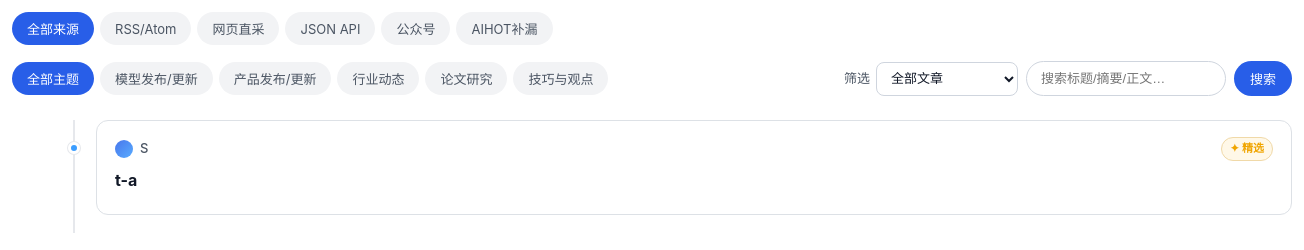
it: Feed › switching the article filter supports 精选 and score thresholds
Expected: the link "t-a" is shown, [115,170,137,190]
Select "精选" in the dropdown named "资讯筛选": (947, 78) [876,62,1018,96]
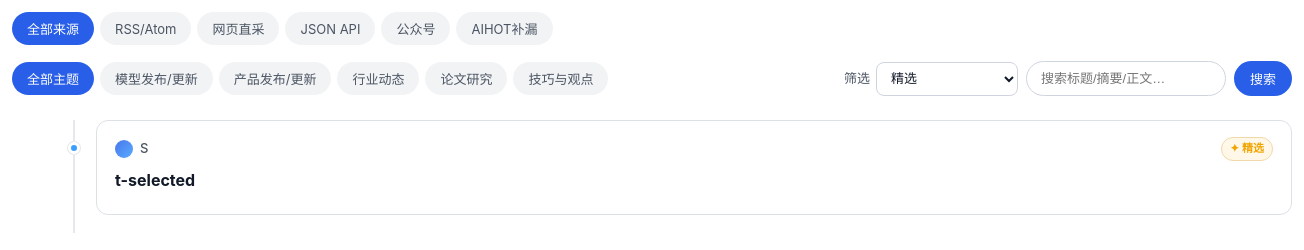
Expected: the link "t-selected" is shown, [115,170,195,190]
Expected: the link "t-a" is gone
Select "评分 4 分以上" in the dropdown named "资讯筛选": (947, 78) [876,62,1018,96]
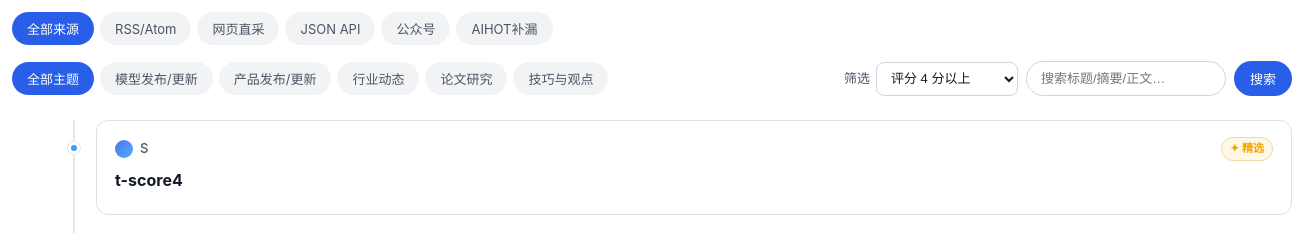
Expected: the link "t-score4" is shown, [115,170,183,190]
